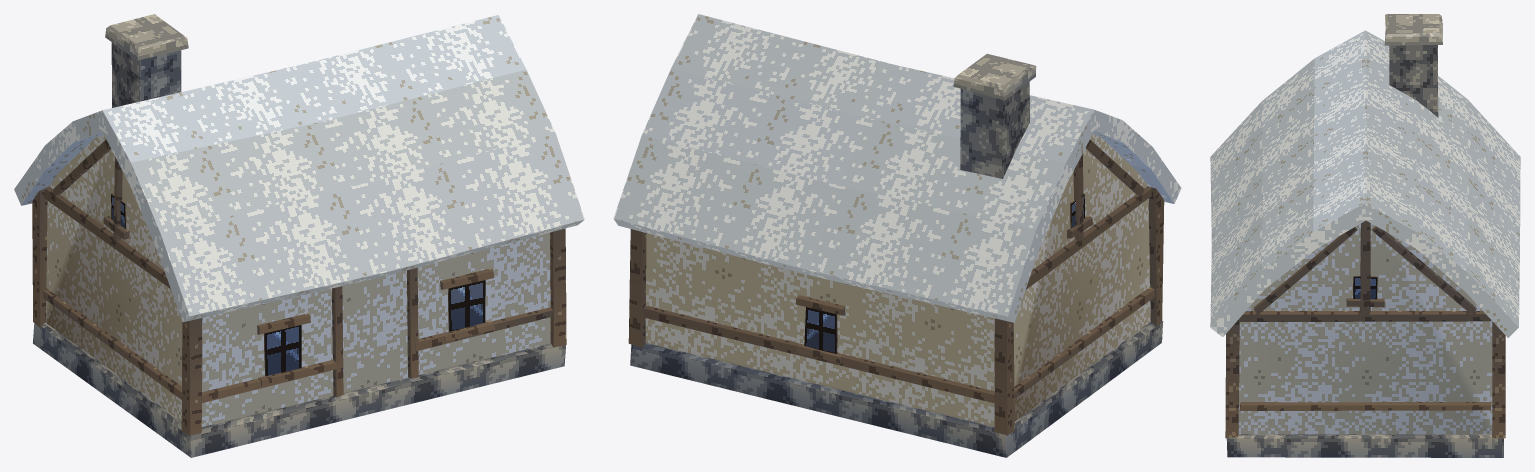
File: vlg.cottage__doorway.glb
3 renders of one model, left to right at view 1: azimuth 30°, elevation 25°; view 2: azimuth 150°, elevation 25°; view 3: azimuth 270°, elevation 25°, orthographic. The views are drawn at different scales.
Visible parts, largest first — view 1: kit_roof, kit_walls, kit_stonework, kit_frame, kit_fittings; view 2: kit_roof, kit_walls, kit_stonework, kit_frame, kit_fittings; view 3: kit_roof, kit_walls, kit_frame, kit_stonework, kit_fittings.
Part boxes in pixels (<box>): kit_roof: <box>14,15,584,322</box>; kit_walls: <box>46,134,550,426</box>; kit_stonework: <box>33,14,565,457</box>; kit_frame: <box>32,139,566,435</box>; kit_fittings: <box>103,193,495,387</box>; kit_roof: <box>613,14,1181,322</box>; kit_walls: <box>645,134,1150,426</box>; kit_stonework: <box>630,53,1163,457</box>; kit_frame: <box>628,139,1164,435</box>; kit_fittings: <box>795,193,1092,363</box>; kit_roof: <box>1210,30,1520,337</box>; kit_walls: <box>1238,223,1492,434</box>; kit_frame: <box>1225,220,1505,438</box>; kit_stonework: <box>1226,14,1503,457</box>; kit_fittings: <box>1346,276,1384,307</box>.
Size of the model in its own units: 7.57 by 6.12 by 5.76.
6 materials, 6 textured.
